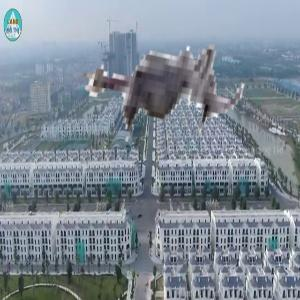drone: (61, 3, 250, 192)
